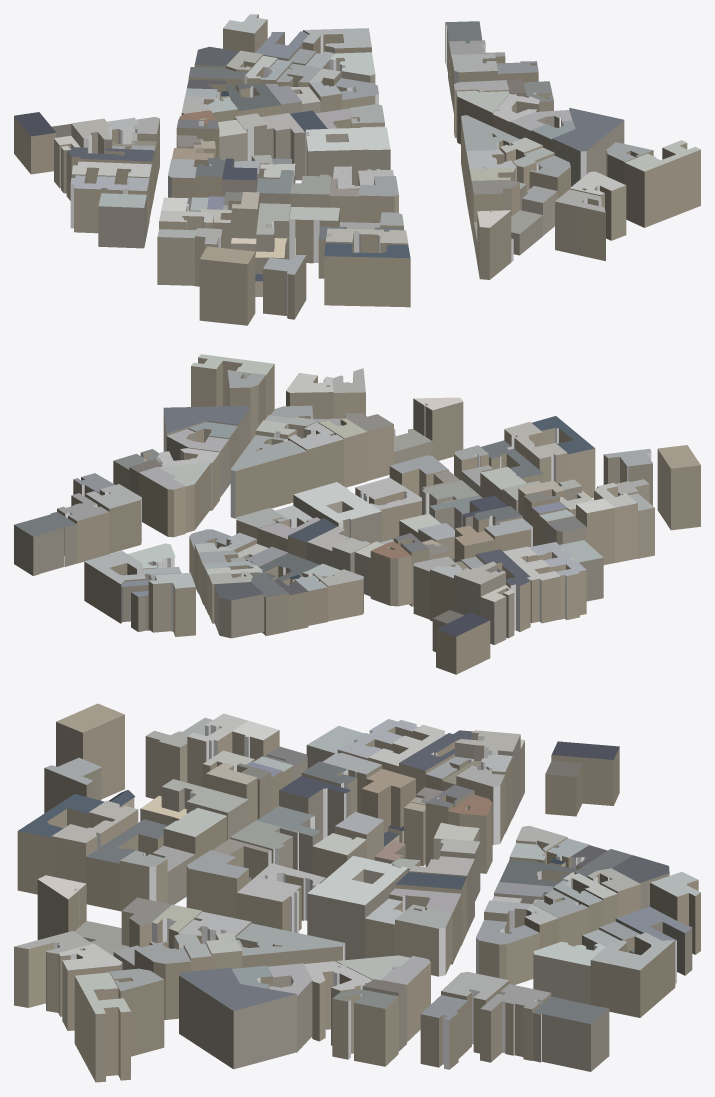
3 views of the same model, one above another, from view 1: azimuth 30°, elevation 25°; view 2: azimuth 150°, elevation 25°; view 3: azimuth 270°, elevation 25° (orthographic). The views are drawn at different scales.
Visible parts, largest first — view 1: tuile; view 2: tuile; view 3: tuile.
Boxes of the visible parts, bbox=[...] form: tuile: bbox=[14, 14, 700, 325]; tuile: bbox=[14, 354, 700, 674]; tuile: bbox=[14, 703, 700, 1082].
Bounding box in the file's own units: 282 × 38.84 × 273.
